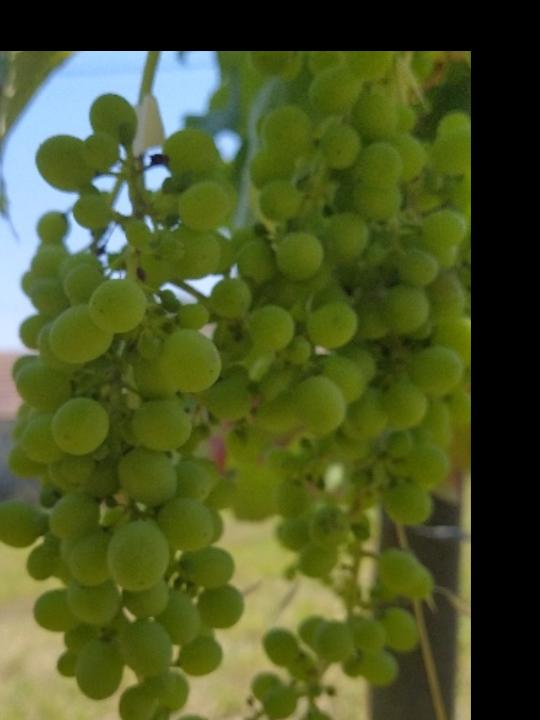grape: (227, 0, 540, 720), (0, 90, 247, 720)
